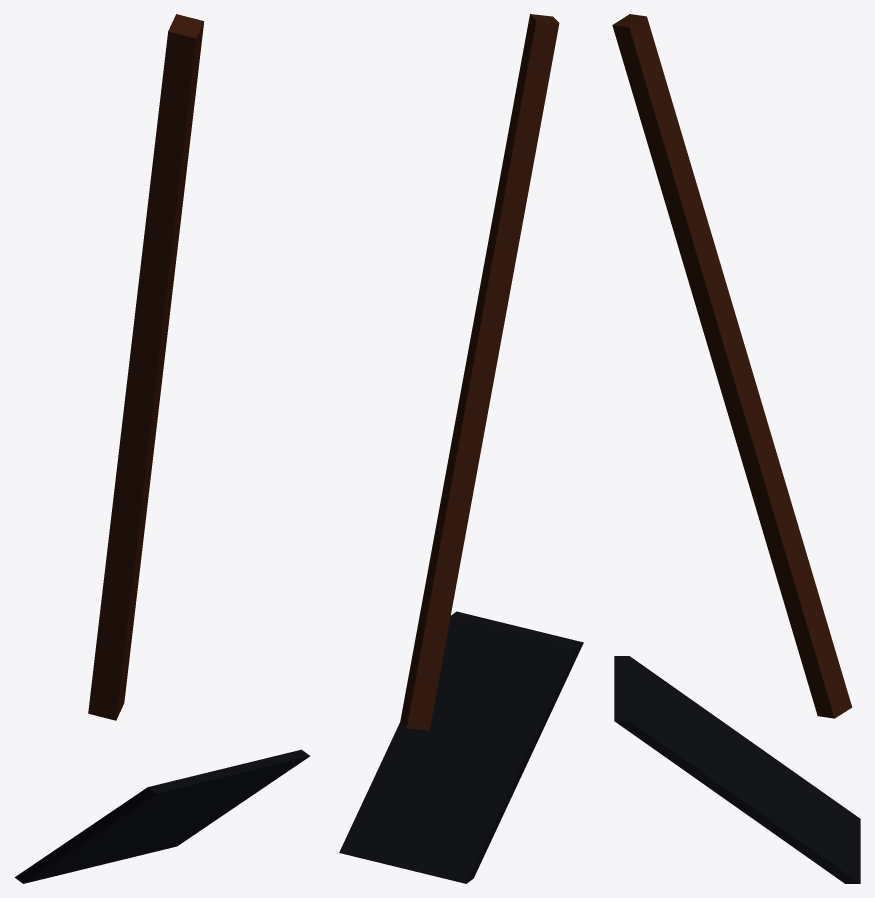
Rendered from GrassOutpostV2_Prop_Shovel.fbx.
3 views of the same model, side by side, from view 1: azimuth 30°, elevation 25°; view 2: azimuth 150°, elevation 25°; view 3: azimuth 270°, elevation 25° (orthographic). The views are drawn at different scales.
Parts seen in each view (by area): view 1: GrassOutpostV2_Prop_Shovel; view 2: GrassOutpostV2_Prop_Shovel; view 3: GrassOutpostV2_Prop_Shovel.
Boxes of the visible parts, box(x1,y1,x2,y2) form: GrassOutpostV2_Prop_Shovel: box(14, 14, 309, 883); GrassOutpostV2_Prop_Shovel: box(339, 14, 583, 883); GrassOutpostV2_Prop_Shovel: box(612, 14, 860, 883).
Bounding box in the file's own units: 0.12 × 0.7037 × 0.1935.
